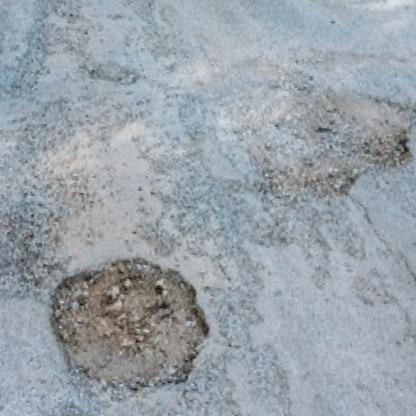pothole: (225, 72, 416, 231), (39, 245, 221, 408)
